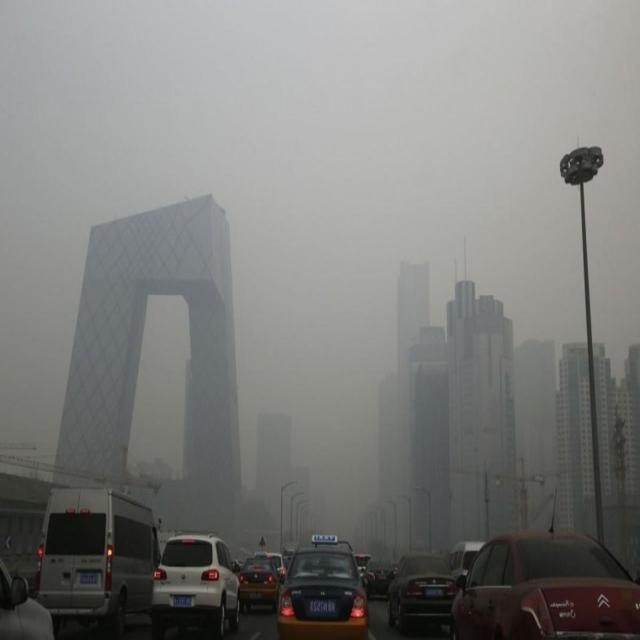Car: (446, 527, 639, 640), (150, 532, 242, 635), (277, 544, 369, 636), (386, 554, 459, 632), (0, 551, 56, 640), (238, 554, 282, 612), (446, 540, 491, 585), (363, 556, 394, 598), (260, 554, 288, 580), (352, 552, 372, 578)
